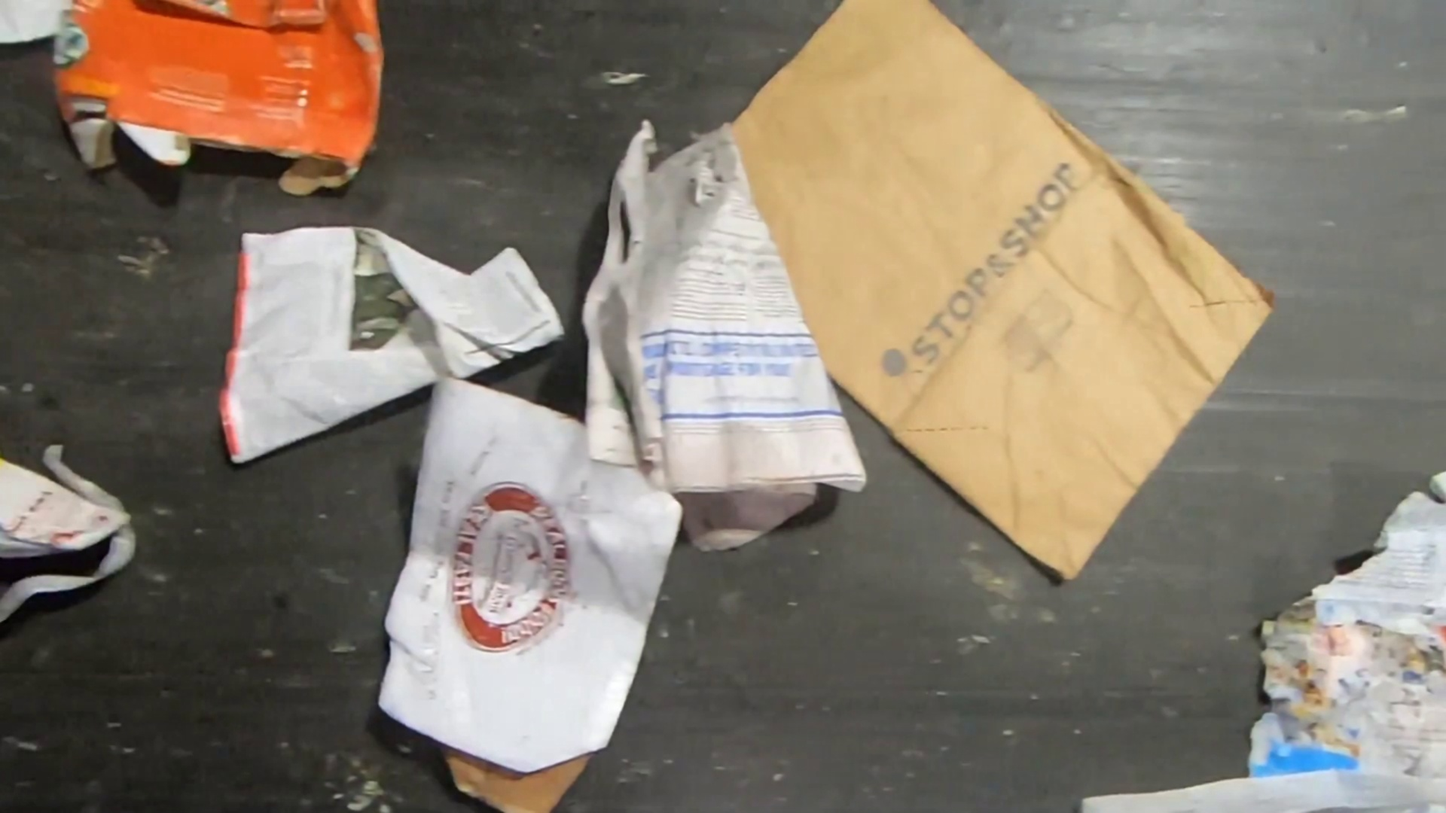cardboard: (374, 369, 688, 813), (48, 0, 387, 199), (0, 0, 63, 46)
plastic: (0, 519, 138, 625), (38, 443, 126, 513)
